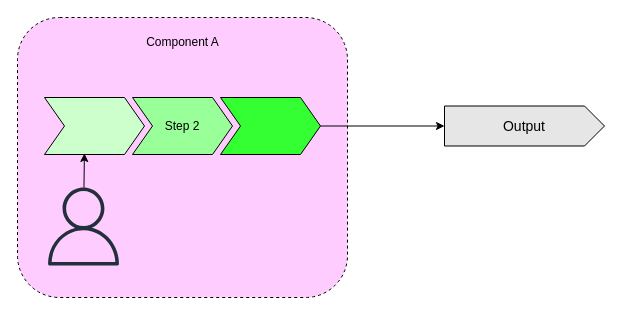
The diagram is 622 pixels wide and 315 high, and some of its shapes have lost their labels. Here are the shapes that lost their labels. From the top down, the centre of each, then its label:
At (x=94, y=125): "Step 1".
At (x=270, y=125): "Step 3".
